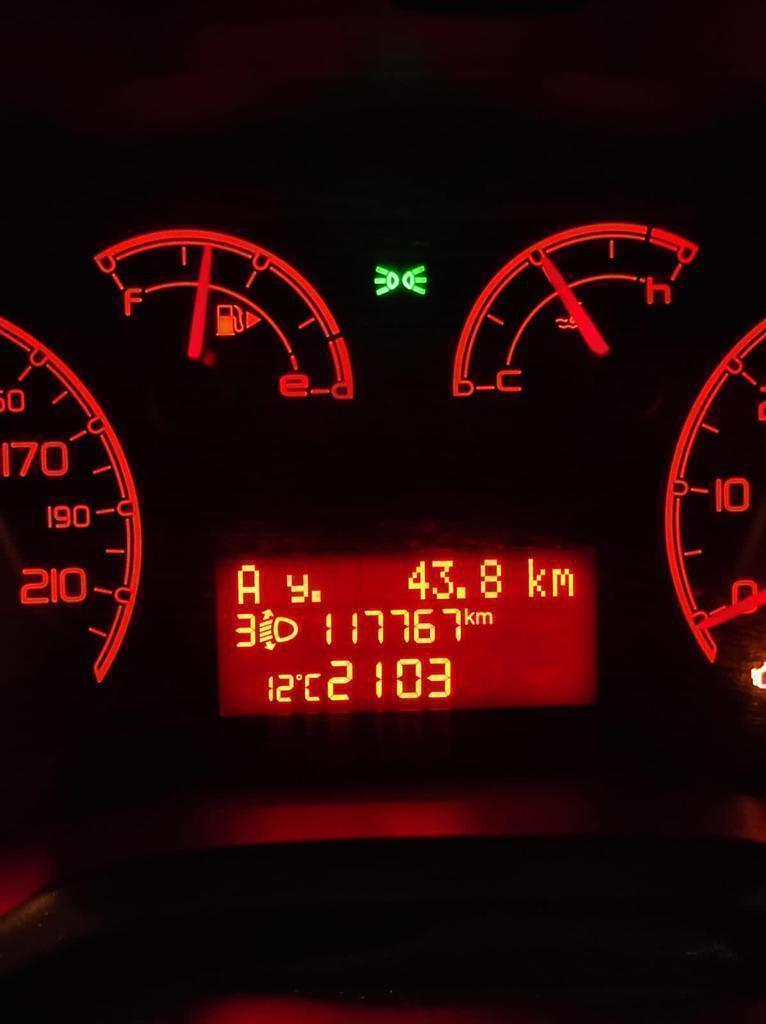,: (455, 583, 470, 602), (310, 586, 323, 604)
0: (394, 656, 423, 701)
1: (322, 609, 336, 651), (372, 657, 384, 704), (349, 607, 360, 648), (265, 671, 274, 705)
2: (327, 657, 355, 704), (275, 670, 293, 702)
3: (427, 654, 453, 699), (430, 556, 453, 600), (232, 610, 255, 651)
4: (405, 556, 430, 601)
6: (413, 606, 436, 646)
7: (437, 606, 463, 644), (363, 607, 385, 646), (389, 606, 409, 644)
8: (479, 556, 502, 600)
X: (235, 561, 264, 607), (527, 552, 548, 602), (550, 564, 575, 600), (285, 569, 309, 605), (304, 670, 322, 702), (475, 609, 495, 627), (464, 605, 475, 626)
odometer: (211, 541, 601, 714)
